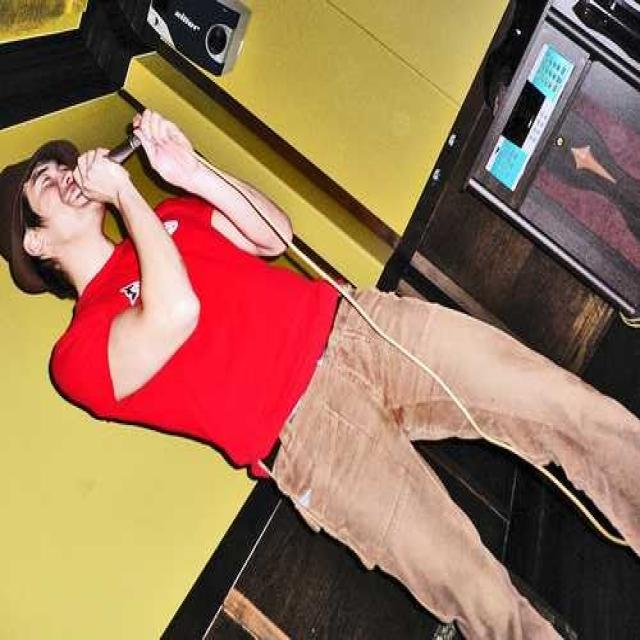microphone: (68, 127, 148, 193)
